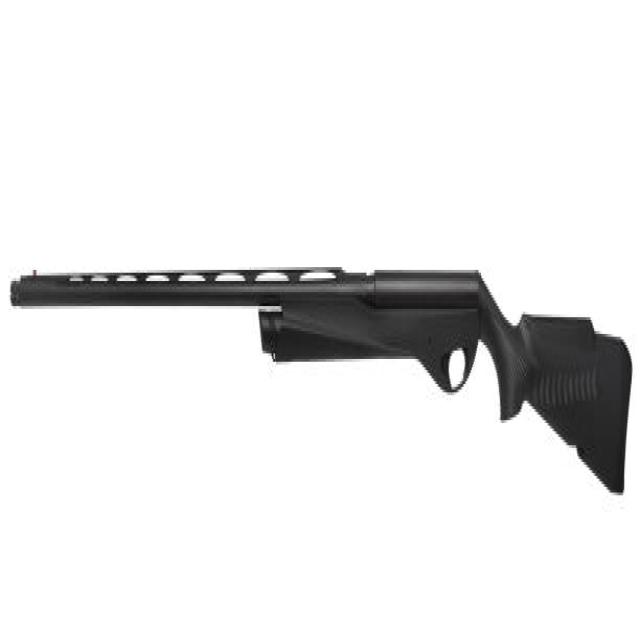rifle: (9, 243, 634, 508)
